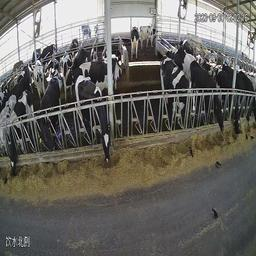cow: (76, 72, 119, 163), (160, 53, 198, 127), (189, 59, 225, 135), (66, 59, 117, 105), (8, 86, 31, 178), (215, 69, 242, 136), (38, 76, 61, 154), (177, 55, 217, 85), (236, 70, 256, 126), (0, 92, 17, 152), (59, 51, 74, 104), (7, 73, 31, 105), (104, 52, 122, 86), (71, 46, 90, 74), (140, 24, 161, 49), (34, 58, 45, 102), (40, 41, 57, 68), (129, 23, 140, 62), (181, 37, 196, 64), (20, 62, 33, 84), (11, 56, 24, 75), (70, 35, 79, 57), (31, 47, 41, 65)
